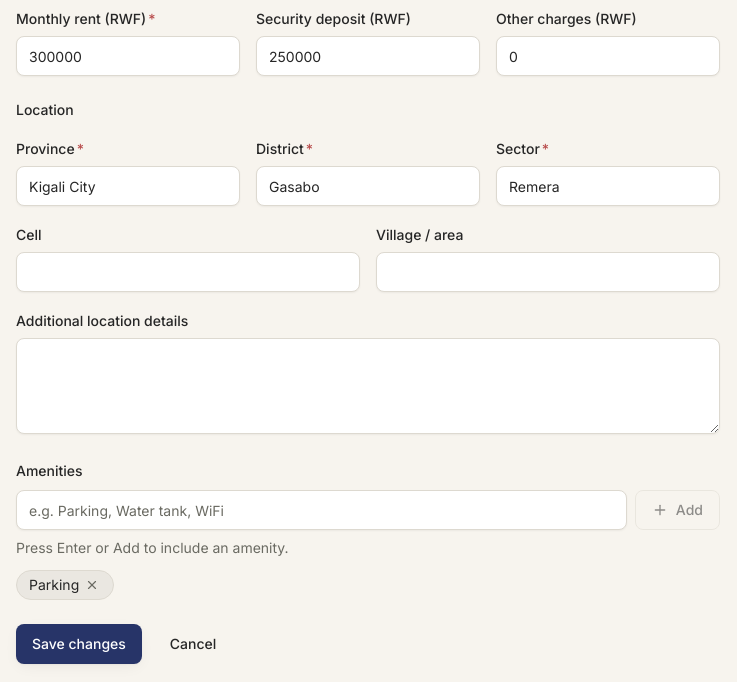
Test: edit property › blocks a no-op save (never issues an empty PATCH)
(page scrolled)
Click the button "Save changes": click(79, 644) [16,624,142,664]
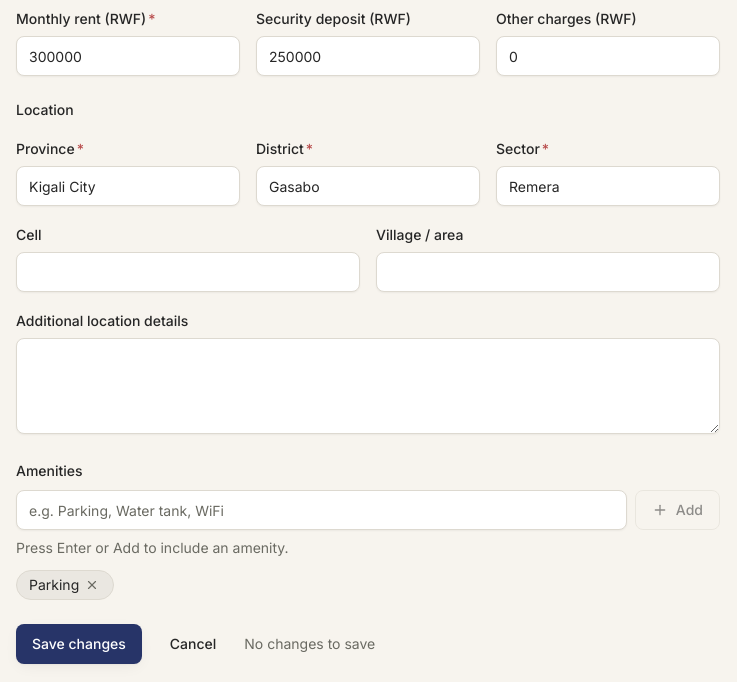
Now the text "No changes to save" is shown, box [244,634,375,654]
